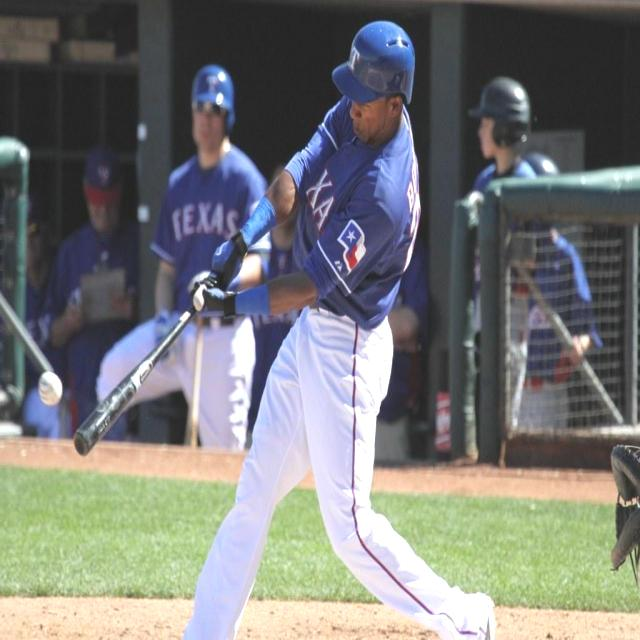ball: (37, 370, 65, 410)
bat: (72, 302, 198, 460)
